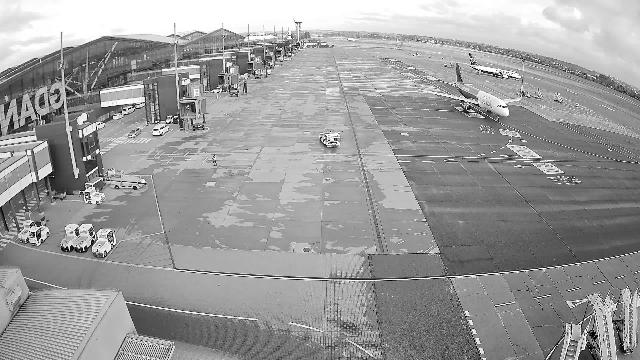Aircraft: (415, 62, 522, 121), (469, 53, 522, 79)
Airport_Tractor: (91, 228, 117, 258), (72, 224, 97, 253), (60, 224, 80, 252), (28, 226, 50, 246), (83, 186, 106, 205), (18, 220, 37, 243)
Baggage_Trolley: (85, 176, 104, 192), (52, 188, 66, 200)
Conveyor_Belt: (105, 170, 147, 190)
Ground_Crew: (213, 155, 217, 166)
Pushback_Tug: (319, 131, 340, 146)
